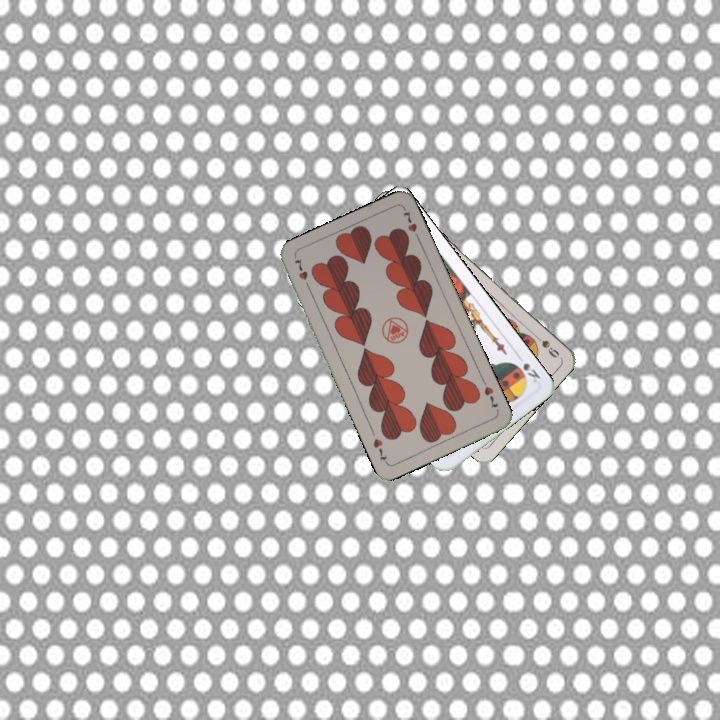H7: (290, 254, 313, 292), (478, 376, 501, 411)
S9: (529, 329, 562, 361)
SK: (519, 359, 543, 385)
